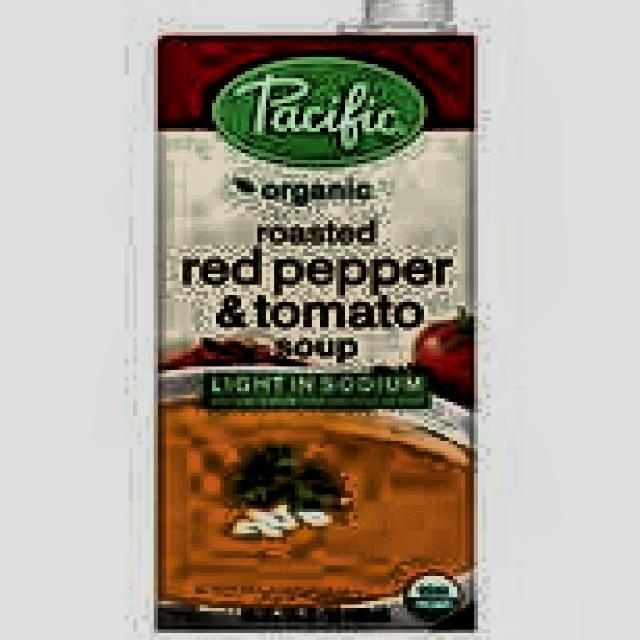cardboard: (154, 28, 478, 630)
